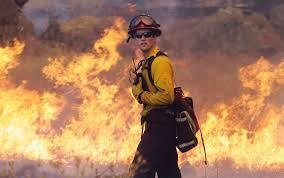fire: (0, 12, 147, 170), (181, 40, 284, 170)
